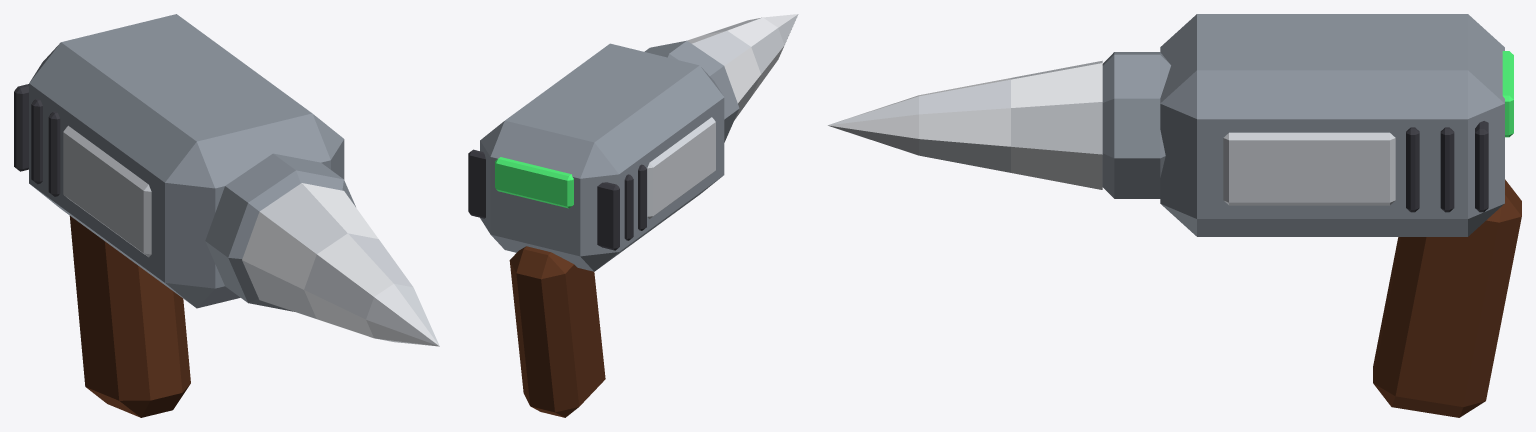
The model's file is IronDrill.fbx.
The picture shows the model from 3 angles, left to right: view 1: azimuth 30°, elevation 25°; view 2: azimuth 150°, elevation 25°; view 3: azimuth 270°, elevation 25°; orthographic projection. The views are drawn at different scales.
Visible parts, largest first — view 1: IronDrill; view 2: IronDrill; view 3: IronDrill.
Boxes of the visible parts, x1=… form: IronDrill: x1=14, y1=14, x2=439, y2=417; IronDrill: x1=468, y1=14, x2=798, y2=417; IronDrill: x1=827, y1=14, x2=1521, y2=417.
Bounding box in the file's own units: 0.97 × 1.77 × 3.02.
1 material, 1 textured.
